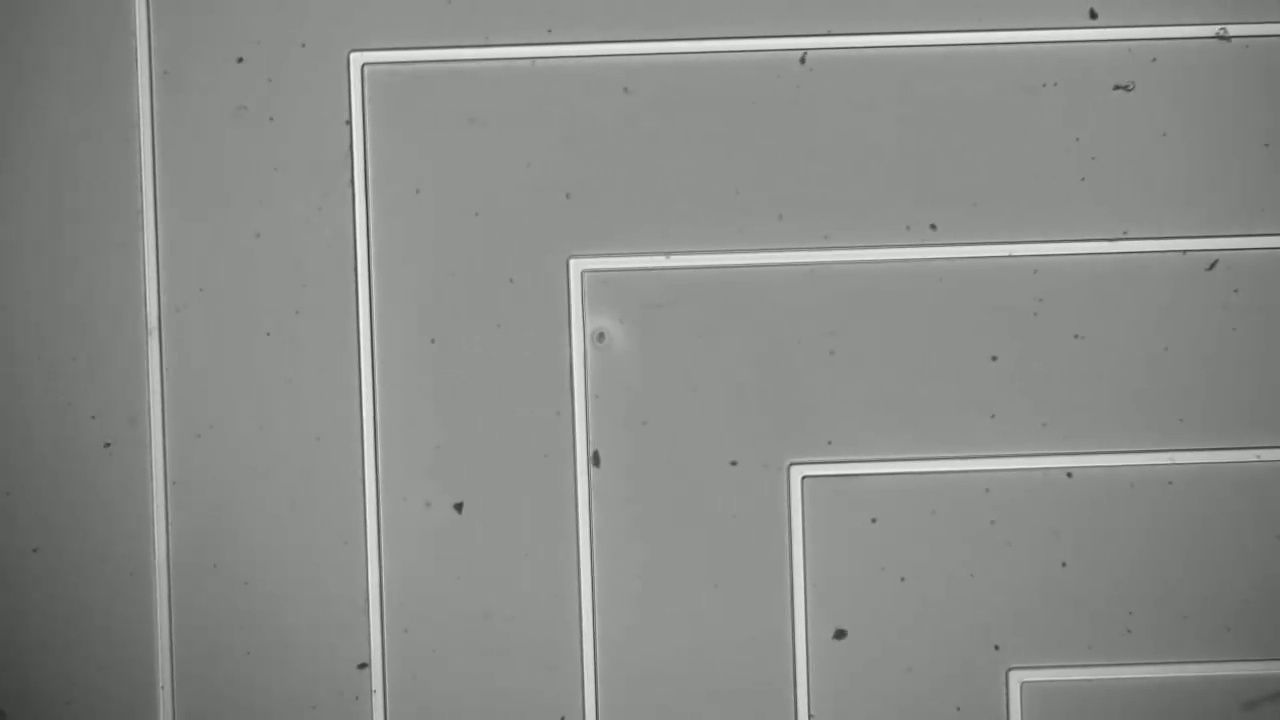stains_enbedded: (1200, 16, 1235, 50)
